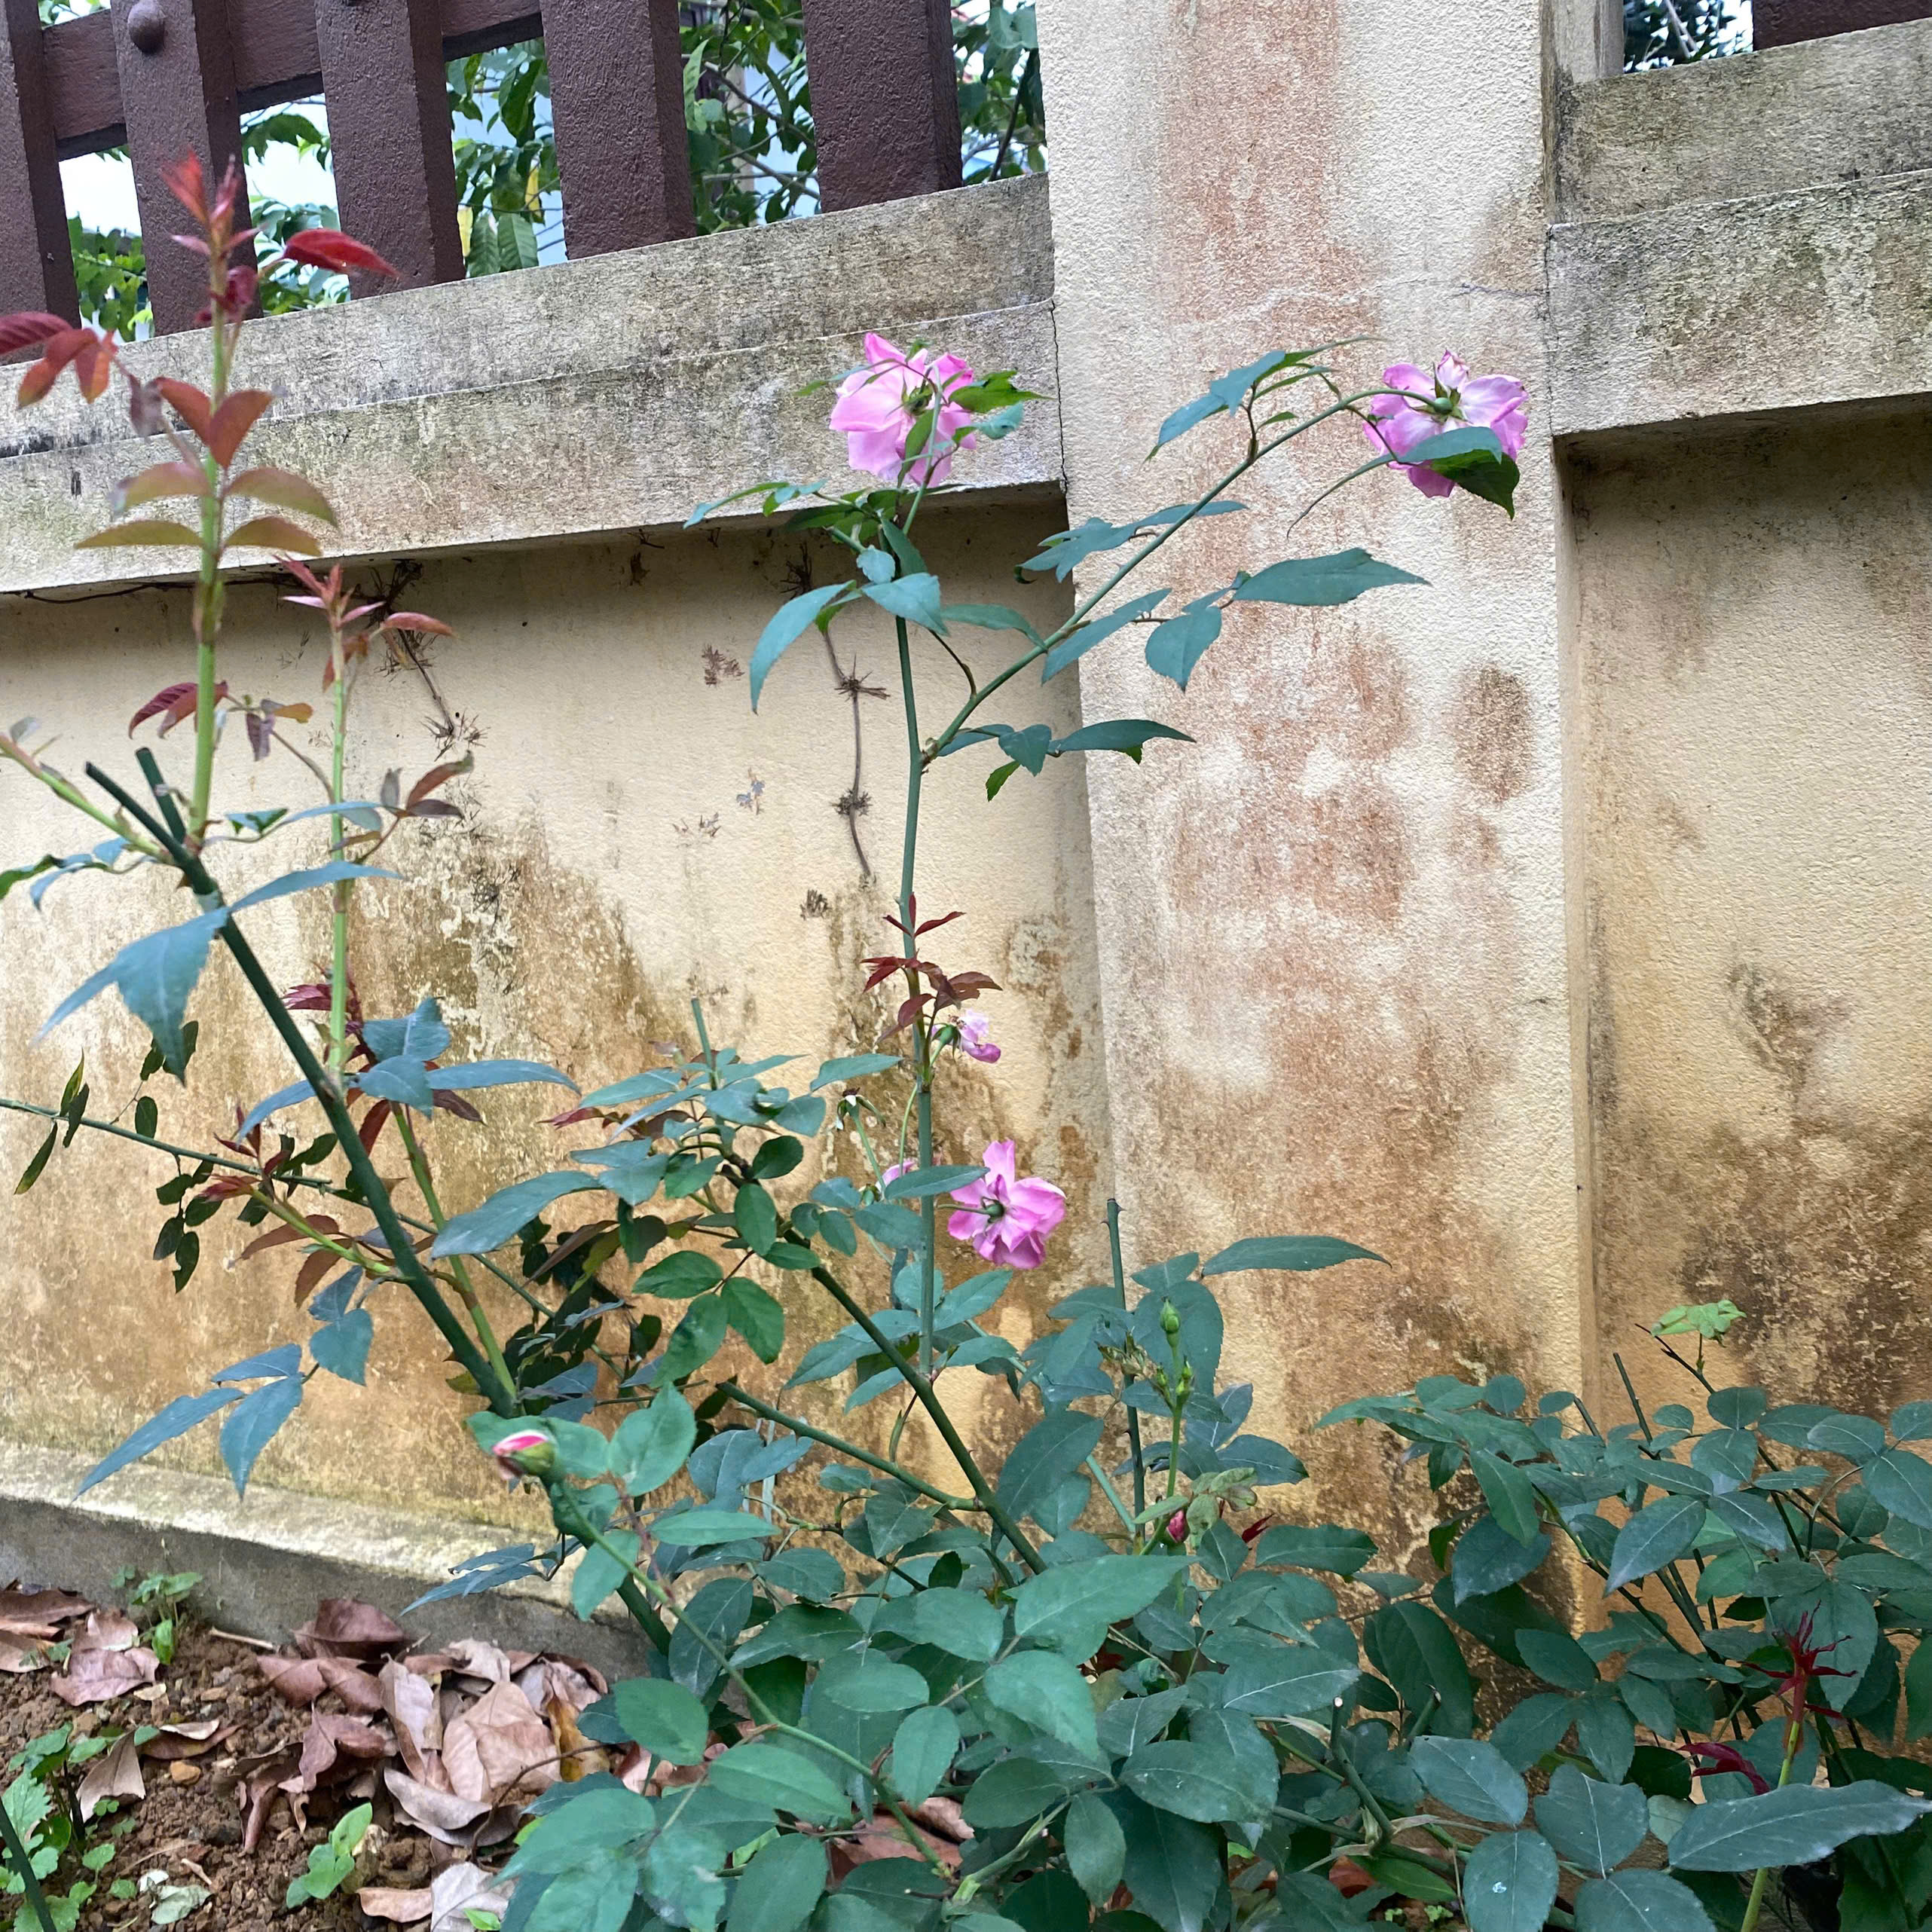hoa_hong_phan: (580, 272, 1684, 1914)
